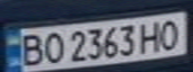2: (66, 27, 87, 63)
3: (84, 25, 106, 61), (118, 21, 139, 57)
6: (103, 25, 121, 60)
B: (15, 32, 48, 68)
H: (136, 18, 166, 54)
O: (154, 16, 187, 51), (39, 29, 66, 65)
